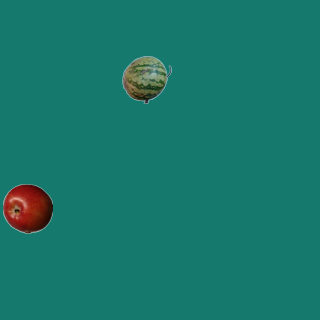Apple Braeburn: (2, 183, 52, 233)
Watermelon: (121, 54, 171, 104)
